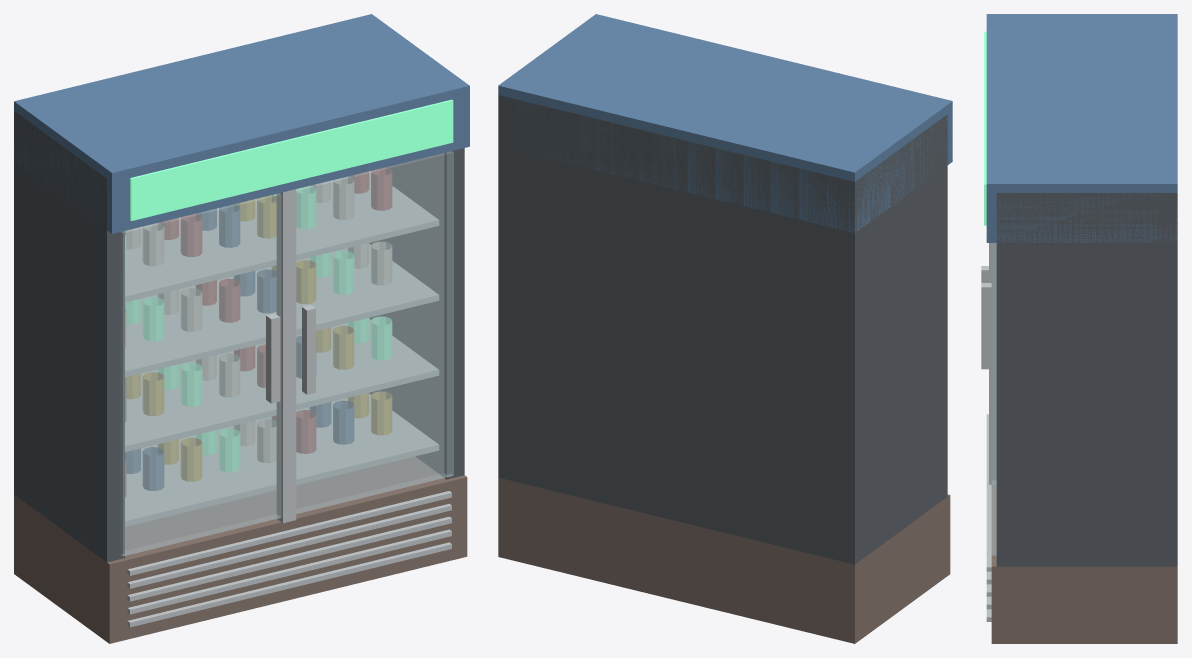
The model's file is sf_beverage_fridge.glb.
3 views of the same model, side by side, from view 1: azimuth 30°, elevation 25°; view 2: azimuth 150°, elevation 25°; view 3: azimuth 270°, elevation 25° (orthographic). The views are drawn at different scales.
Visible parts, largest first — view 1: BeverageFridgePure3D_Root; view 2: BeverageFridgePure3D_Root; view 3: BeverageFridgePure3D_Root.
Part boxes in pixels (left/top/right/bottom): BeverageFridgePure3D_Root: left=14, top=14, right=469, bottom=643; BeverageFridgePure3D_Root: left=498, top=14, right=952, bottom=643; BeverageFridgePure3D_Root: left=981, top=14, right=1177, bottom=643.
Bounding box in the file's own units: 1.6 × 2.02 × 0.78.
